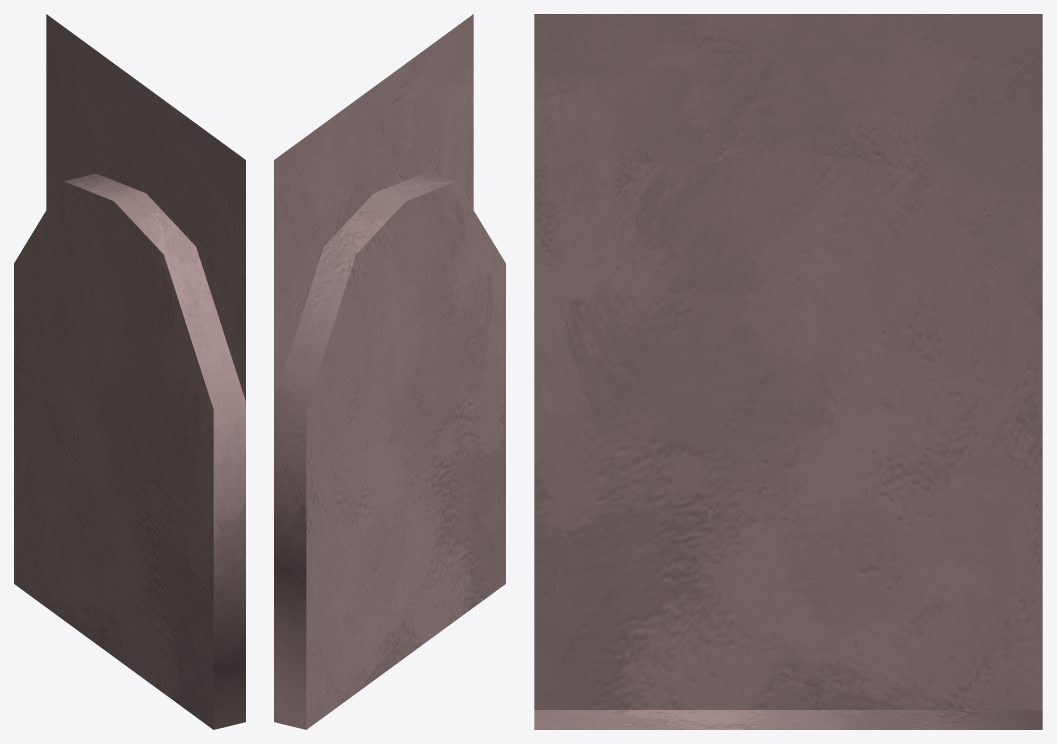
File: whall2.fbx
The picture shows the model from 3 angles, left to right: view 1: azimuth 30°, elevation 25°; view 2: azimuth 150°, elevation 25°; view 3: azimuth 270°, elevation 25°; orthographic projection. The views are drawn at different scales.
Parts seen in each view (by area): view 1: Cube; view 2: Cube; view 3: Cube.
Part boxes in pixels (bbox=[...]): Cube: bbox=[14, 14, 245, 729]; Cube: bbox=[274, 14, 505, 729]; Cube: bbox=[534, 14, 1042, 729].
Size of the model in its own units: 21.66 by 360 by 232.
